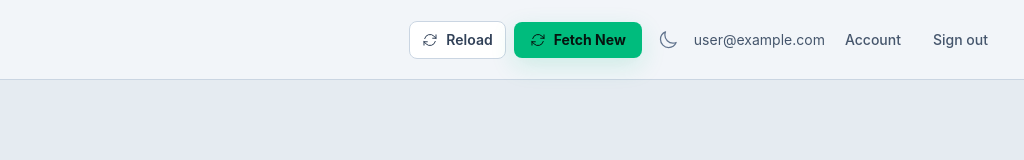
Scenario: Header refresh controls › disables Sign out while logout is in flight and does not start a second revocation
Step 1. Click the button "Sign out" → (960, 40), box [921, 22, 1000, 58]
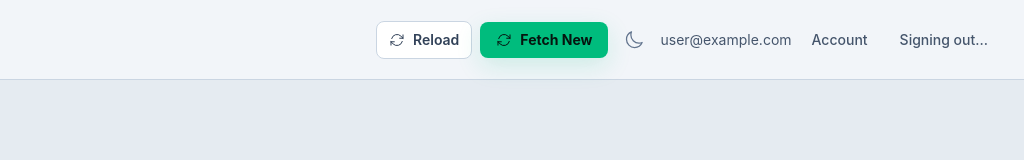
Expected: the button "Signing out..." is disabled
Step 2. Click the button "Signing out..." → (944, 40), box [888, 22, 1000, 58]
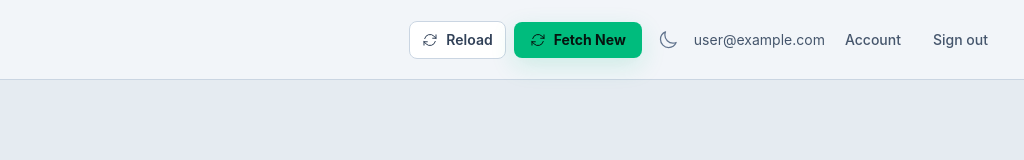
Expected: the text "user@example.com" is shown, [694, 30, 825, 50]
Expected: the button "Sign out" is enabled, [921, 22, 1000, 58]
